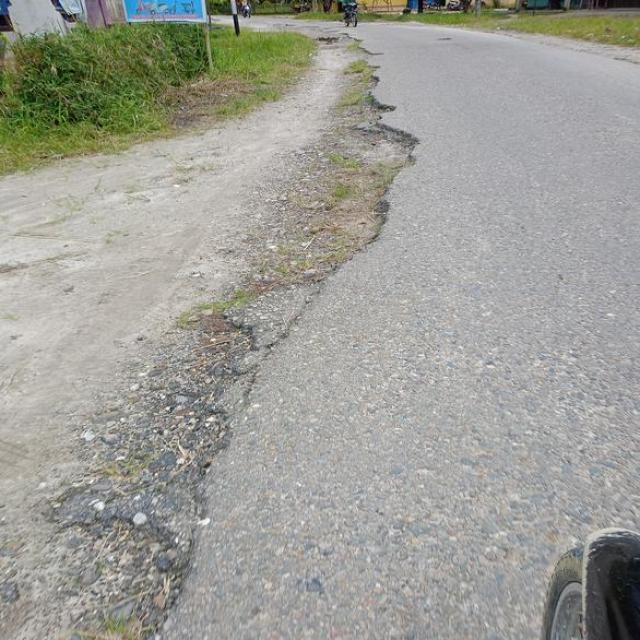Pinggir: (129, 45, 430, 640)
